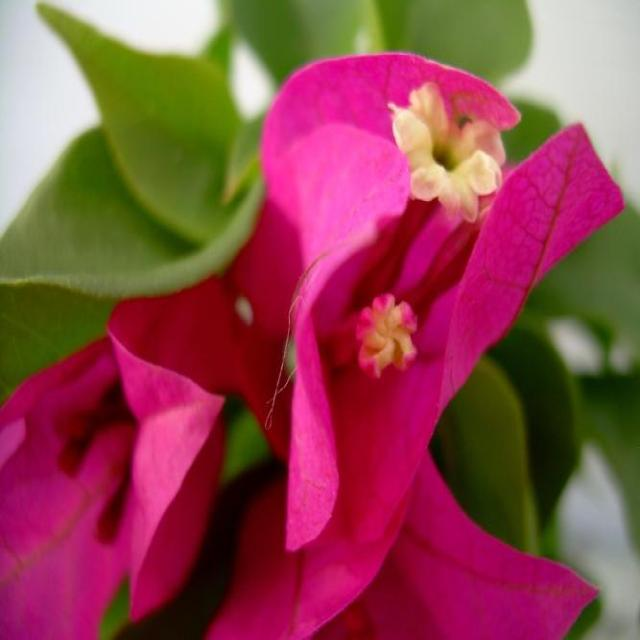bougainvillea: (221, 0, 635, 640)
